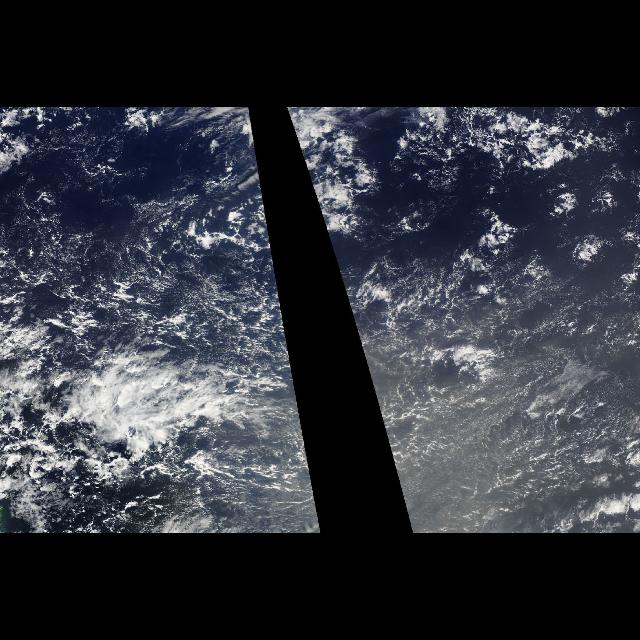Gravel: (286, 109, 638, 532), (2, 109, 322, 532)
Sugar: (352, 287, 636, 533)
